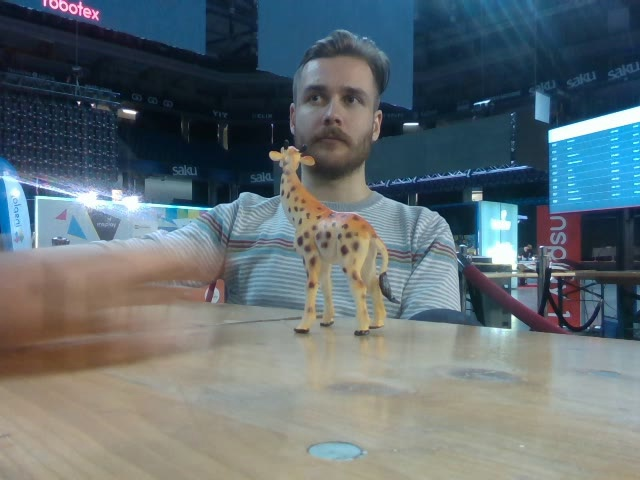toy: (268, 138, 399, 341)
